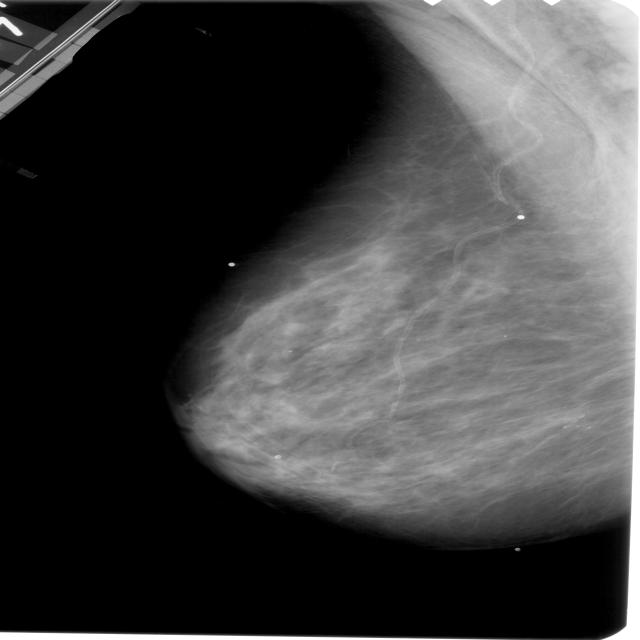normal: (160, 42, 640, 545)
